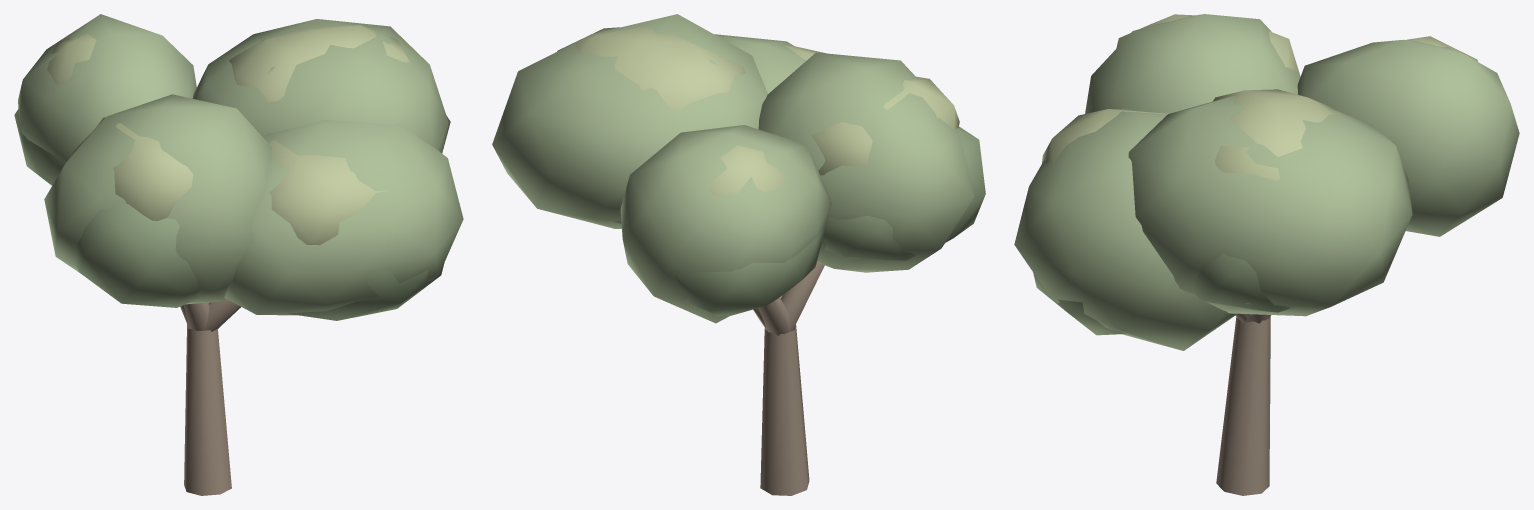
The model's file is tree_ceibo_5.glb.
The picture shows the model from 3 angles, left to right: view 1: azimuth 30°, elevation 25°; view 2: azimuth 150°, elevation 25°; view 3: azimuth 270°, elevation 25°; orthographic projection. The views are drawn at different scales.
Parts seen in each view (by area): view 1: tree_ceibo_5.glb; view 2: tree_ceibo_5.glb; view 3: tree_ceibo_5.glb.
Part boxes in pixels (<box>): tree_ceibo_5.glb: <box>14,14,463,495</box>; tree_ceibo_5.glb: <box>492,14,985,495</box>; tree_ceibo_5.glb: <box>1014,14,1519,495</box>.
Size of the model in its own units: 4.82 by 4.62 by 4.73.
